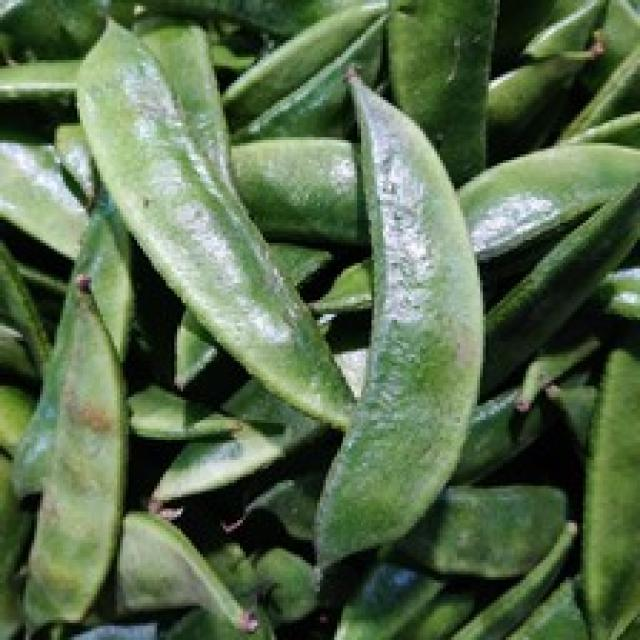Bean: (0, 0, 637, 637), (72, 11, 357, 432)
